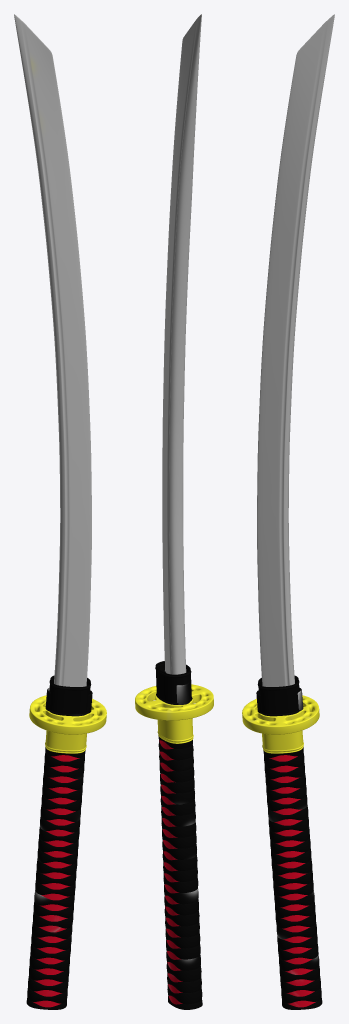
Rendered from katana4.fbx.
3 renders of one model, left to right at view 1: azimuth 90°, elevation 25°; view 2: azimuth 210°, elevation 25°; view 3: azimuth 270°, elevation 25°, orthographic.
Visible parts, largest first — view 1: Blade.001; view 2: Blade.001; view 3: Blade.001.
Boxes of the visible parts, x1,y1,x2,y2 form: Blade.001: (14,14,106,1009); Blade.001: (135,14,213,1009); Blade.001: (242,14,334,1009).
Size of the model in its own units: 0.0914 by 1.28 by 0.1086.
1 material, 1 textured.
